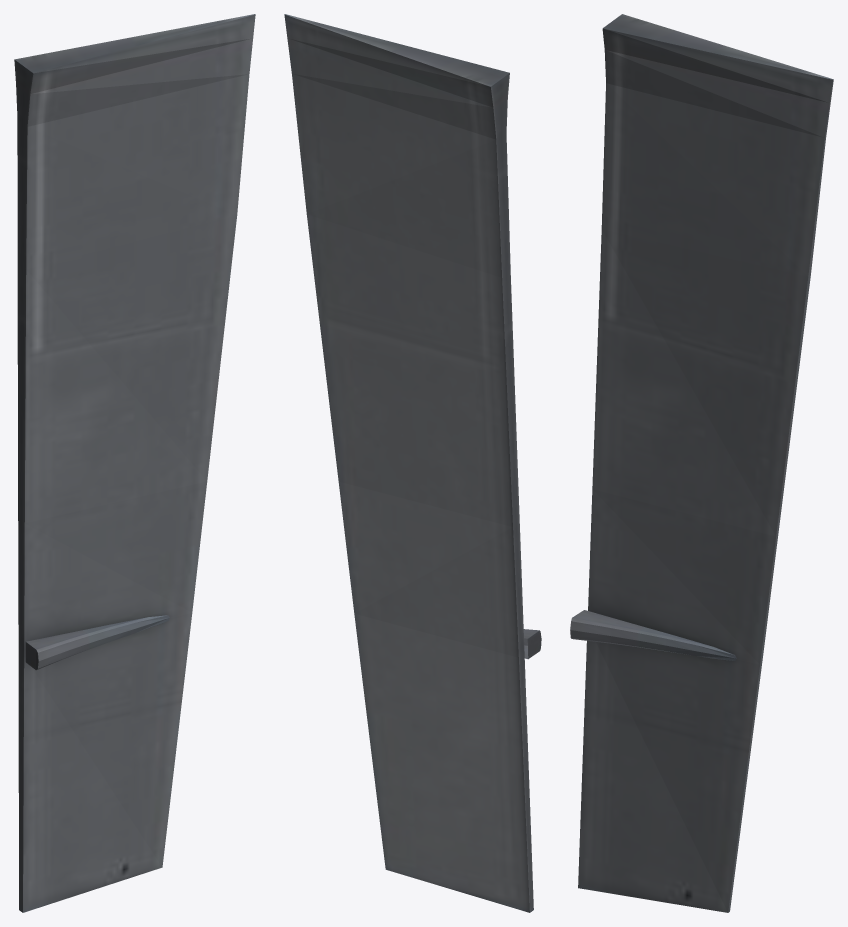
The model's file is volet2.fbx.
3 views of the same model, side by side, from view 1: azimuth 30°, elevation 25°; view 2: azimuth 150°, elevation 25°; view 3: azimuth 330°, elevation 25° (orthographic). The views are drawn at different scales.
Visible parts, largest first — view 1: ShapeIndexedFaceSet; view 2: ShapeIndexedFaceSet; view 3: ShapeIndexedFaceSet.
Part boxes in pixels (x1=…): ShapeIndexedFaceSet: x1=14, y1=14, x2=255, y2=912; ShapeIndexedFaceSet: x1=284, y1=14, x2=541, y2=912; ShapeIndexedFaceSet: x1=570, y1=14, x2=833, y2=912.
Size of the model in its own units: 1.1 by 3.65 by 0.2958.
